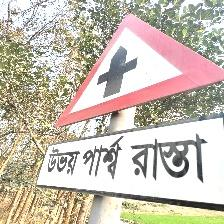Crossroad: (37, 15, 224, 200)
